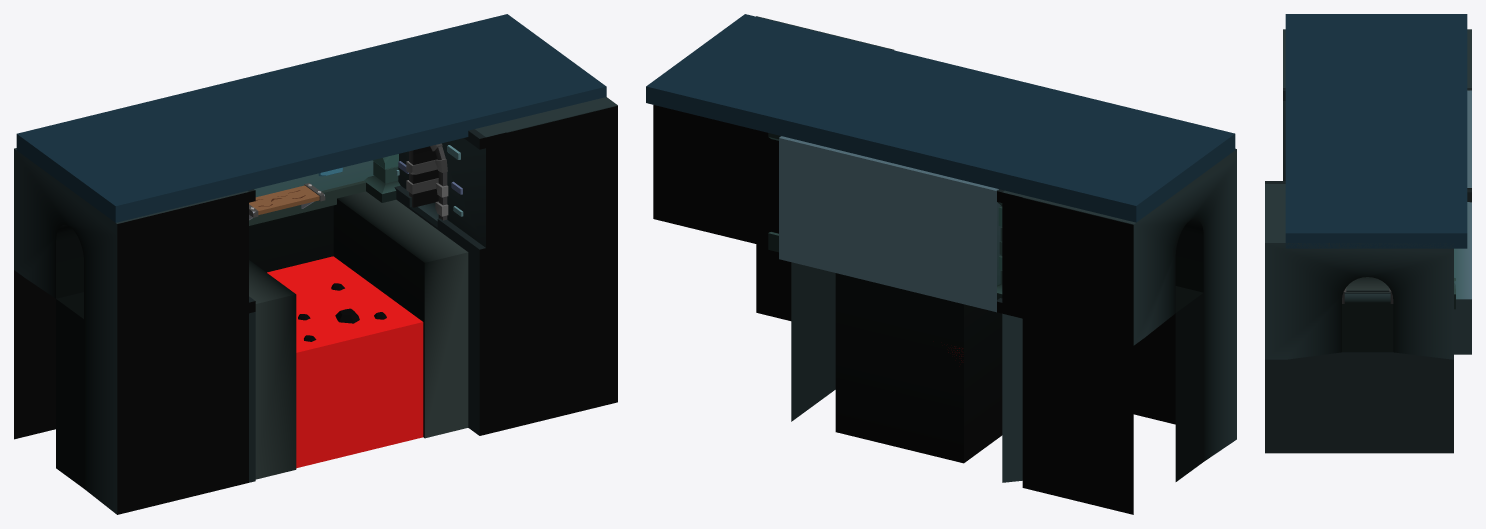
File: Entrance_Exit_Single.fbx
3 renders of one model, left to right at view 1: azimuth 30°, elevation 25°; view 2: azimuth 150°, elevation 25°; view 3: azimuth 270°, elevation 25°, orthographic. The views are drawn at different scales.
Visible parts, largest first — view 1: Entrance_Exit_Single, Monkey Platform; view 2: Entrance_Exit_Single; view 3: Entrance_Exit_Single.
Part boxes in pixels (x1,y1,x2,y2): Entrance_Exit_Single: [14, 14, 617, 514]; Monkey Platform: [249, 183, 325, 220]; Entrance_Exit_Single: [646, 14, 1236, 514]; Entrance_Exit_Single: [1265, 14, 1471, 453].
Size of the model in its own units: 15.73 by 9.42 by 6.27.
